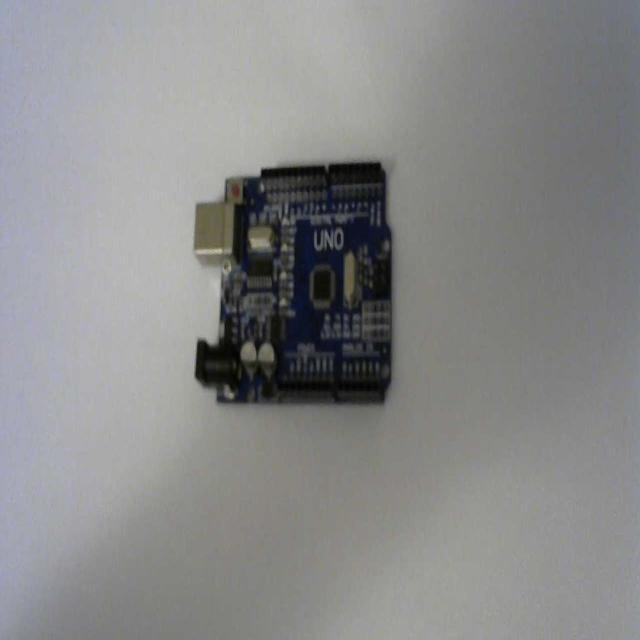arduino: (191, 156, 399, 412)
